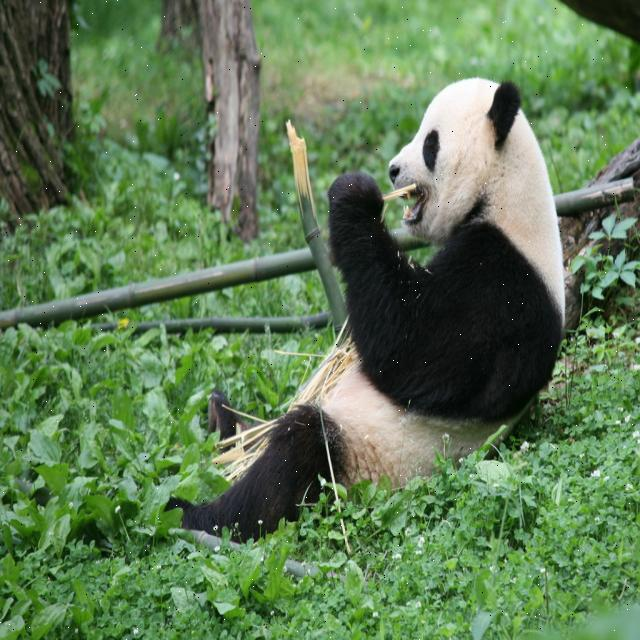panda: (171, 74, 567, 542)
